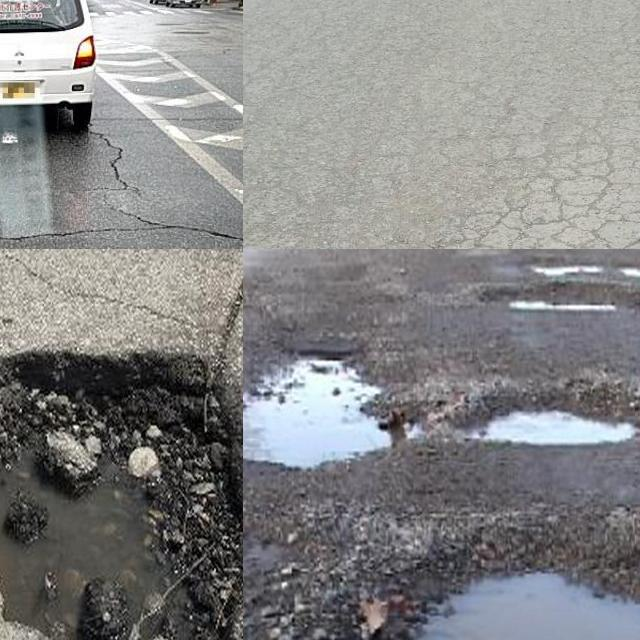Lubang: (0, 358, 243, 640), (370, 532, 640, 640), (243, 354, 399, 460), (456, 387, 640, 445)
Melintang: (0, 211, 243, 249)
